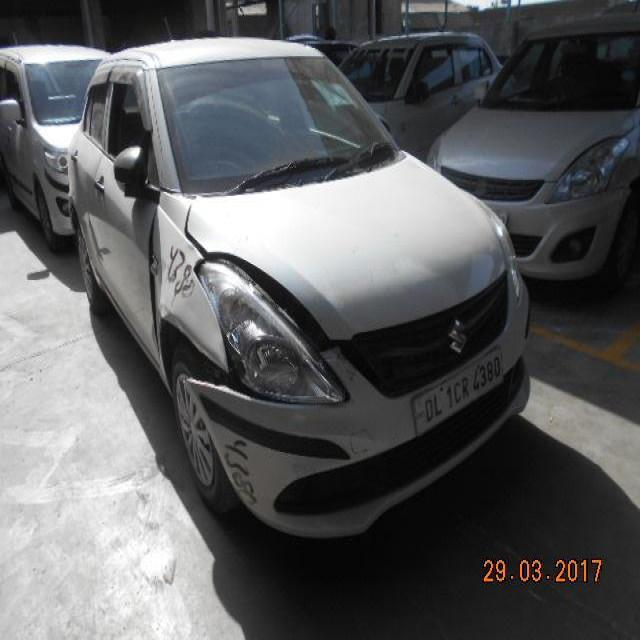damaged: (182, 328, 264, 509), (159, 197, 215, 316)
